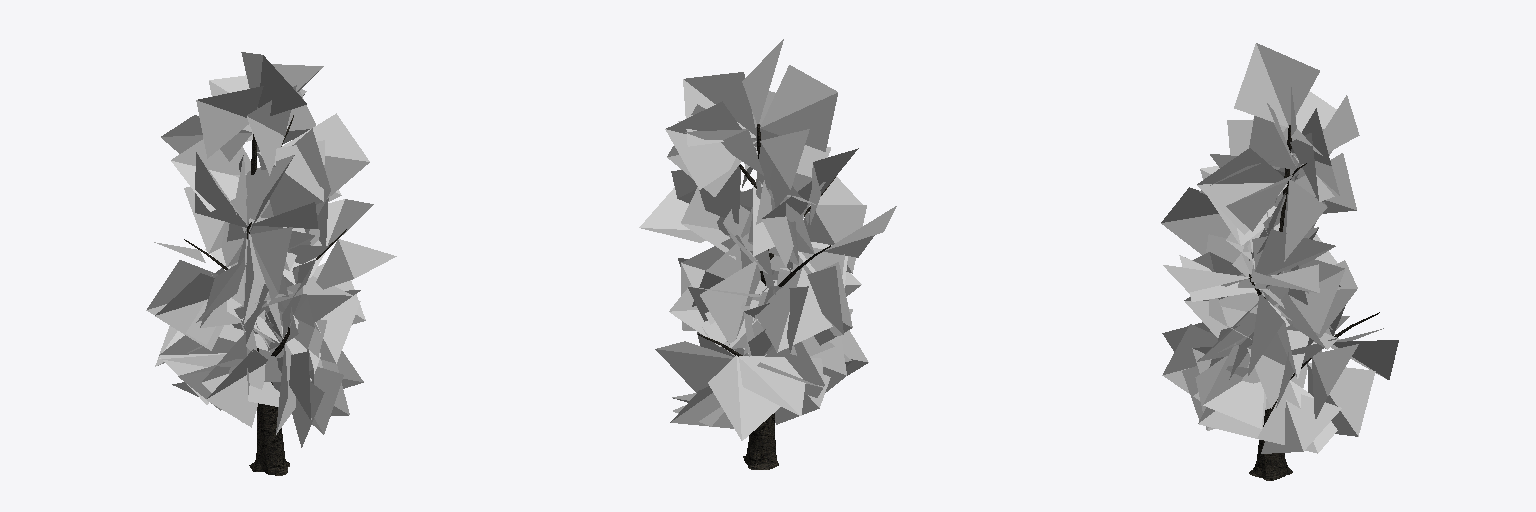
3 views of the same model, side by side, from view 1: azimuth 30°, elevation 25°; view 2: azimuth 150°, elevation 25°; view 3: azimuth 270°, elevation 25° (orthographic).
Visible parts, largest first — view 1: tree_5; view 2: tree_5; view 3: tree_5.
Part boxes in pixels (bbox=[...]): tree_5: bbox=[146, 52, 396, 475]; tree_5: bbox=[639, 39, 896, 469]; tree_5: bbox=[1161, 43, 1398, 480].
Bounding box in the file's own units: 3.74 × 6.91 × 3.54.
Materials: 2 (1 with a texture image).